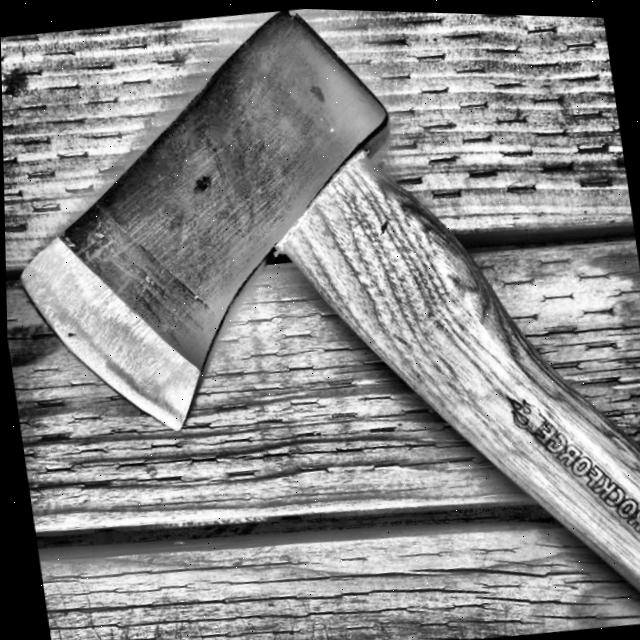kapak: (7, 9, 640, 598)
